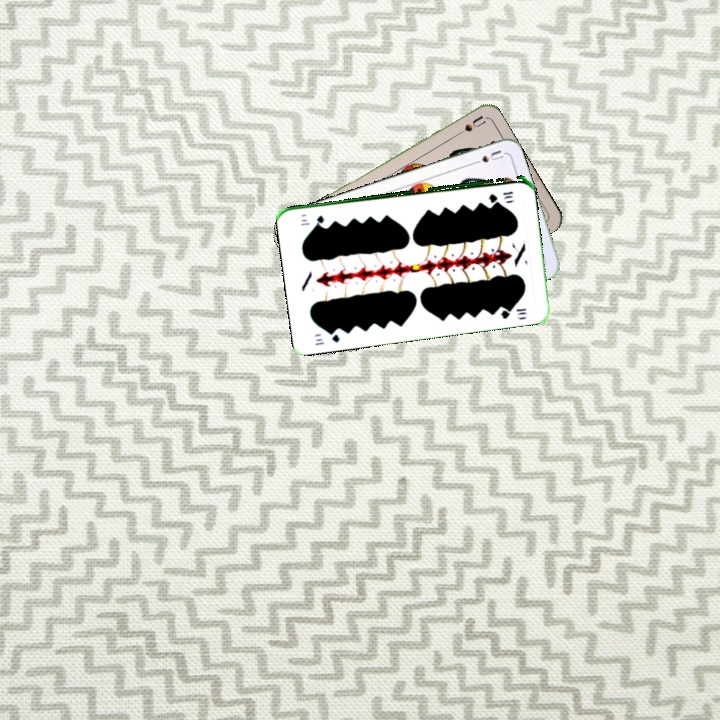G10: (311, 326, 342, 348), (485, 187, 515, 203)
SU: (449, 111, 488, 140), (467, 146, 506, 168)
